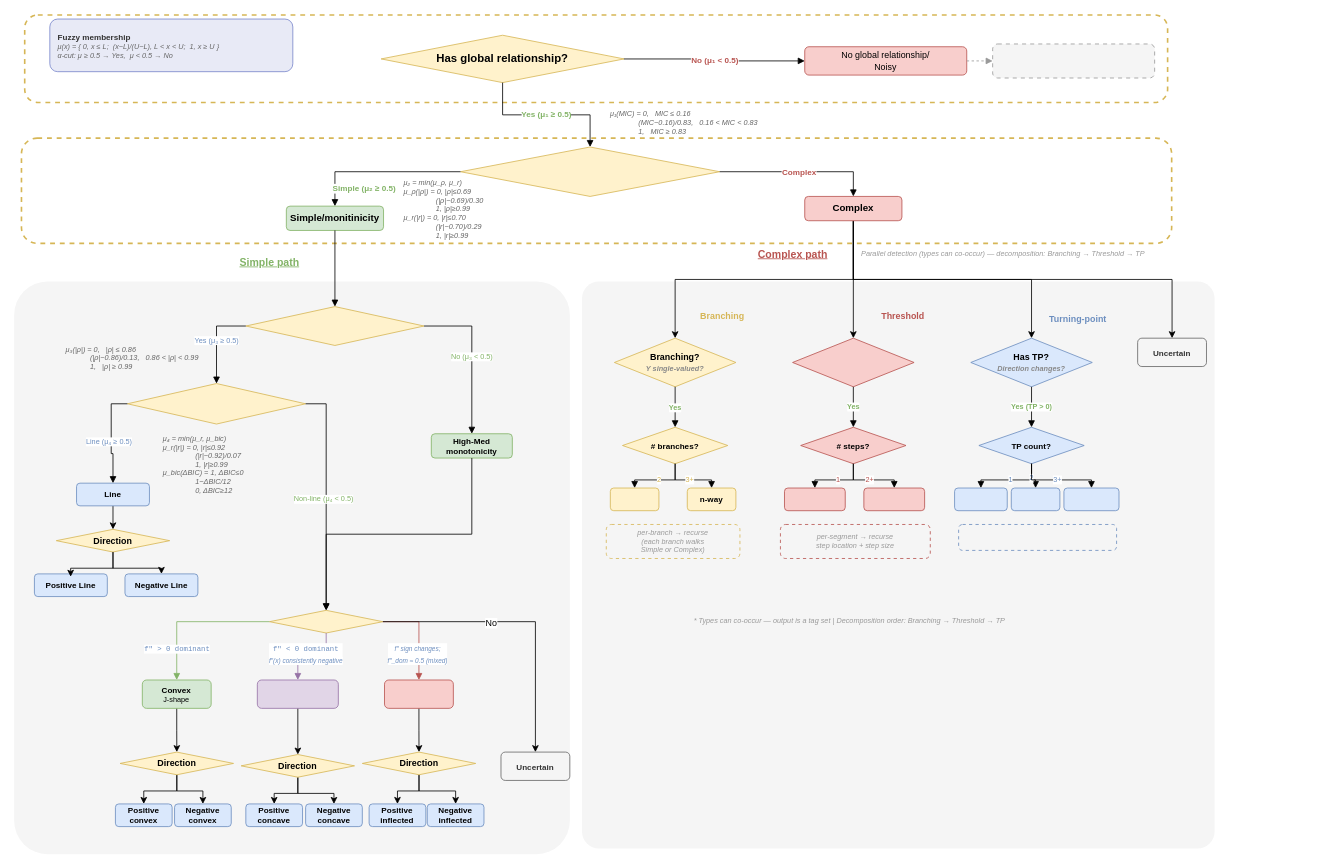
The diagram is 1343 pixels wide and 868 high, and some of its shapes have lost their labels. Each missing label, with the box of its shape:
2-way: (610, 487, 659, 511)
Concave Sat / L-shape: (257, 679, 338, 708)
Cubic: (1010, 487, 1060, 511)
Curvature type: (269, 610, 383, 633)
Inflected S-curve: (384, 679, 453, 708)
Linearity?: (127, 383, 306, 424)
Multi-step: (863, 487, 925, 511)
Oscillatory: (1063, 487, 1119, 511)
per-segment → Simple path: (958, 524, 1117, 550)
Simple or Complex?: (460, 146, 720, 196)
Single step: (784, 487, 845, 511)
Strong monotonicity?: (245, 306, 424, 345)
Threshold? Discontinuity?: (792, 337, 914, 387)
U / Inv-U/ Spike: (954, 487, 1007, 511)
→ Check local relationship (deferred — can do later): (992, 43, 1155, 78)
